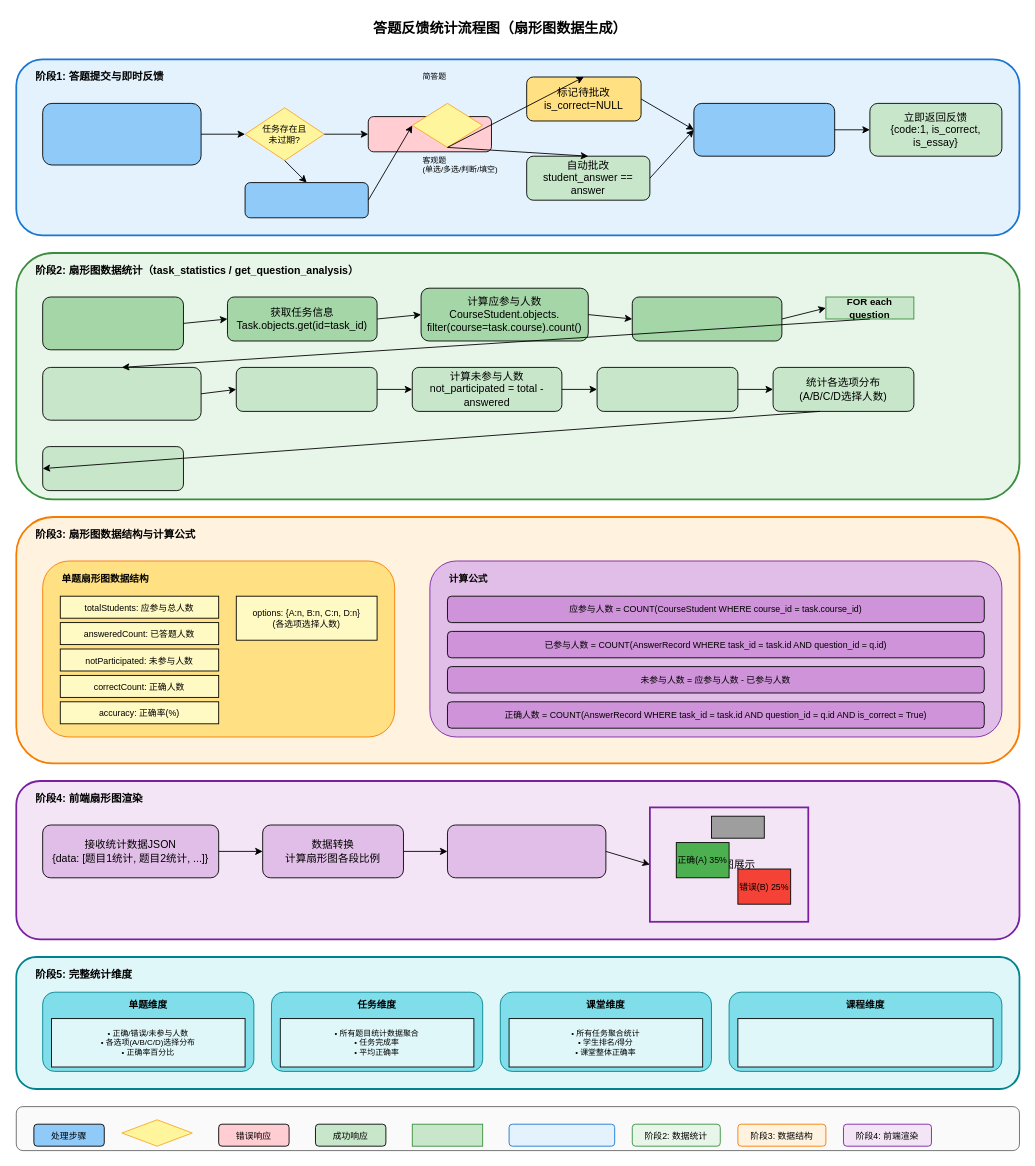
Image size: 1035x1166. Some labels were removed from this diagram. Each missing label, with the box of its shape:
• 所有课堂聚合统计 • 学生课程总排名 • 学生答题历史/趋势分析: (737, 1018, 993, 1067)
保存答题记录 INSERT INTO AnswerRecord: (693, 103, 835, 156)
前端请求统计数据 task_statistics(task_id): (42, 296, 183, 350)
学生提交答案 submit_answer() (task_id/q_id/username/answer): (42, 103, 201, 165)
循环处理: (411, 1123, 483, 1146)
未参与 40%: (711, 815, 764, 838)
查询学生/任务/题目信息: (244, 182, 368, 218)
查询本题所有答题记录 AnswerRecord.objects. filter(task=task, question=q): (42, 367, 201, 420)
渲染扇形图组件 (ECharts/Chart.js等): (447, 824, 606, 878)
获取任务题目列表 (仅客观题: q_type=1,3): (631, 296, 782, 341)
计算已参与人数 answered_count = records.count(): (235, 367, 377, 411)
计算正确人数 correct_count = records. filter(is_correct=True).count(): (596, 367, 738, 411)
计算正确率 accuracy = correct/answered*100: (42, 446, 183, 491)
返回错误: 任务不存在或已结束: (367, 116, 491, 152)
逻辑判断: (121, 1119, 192, 1146)
阶段1: 答题提交: (508, 1123, 615, 1146)
题型判断: (411, 103, 483, 147)
